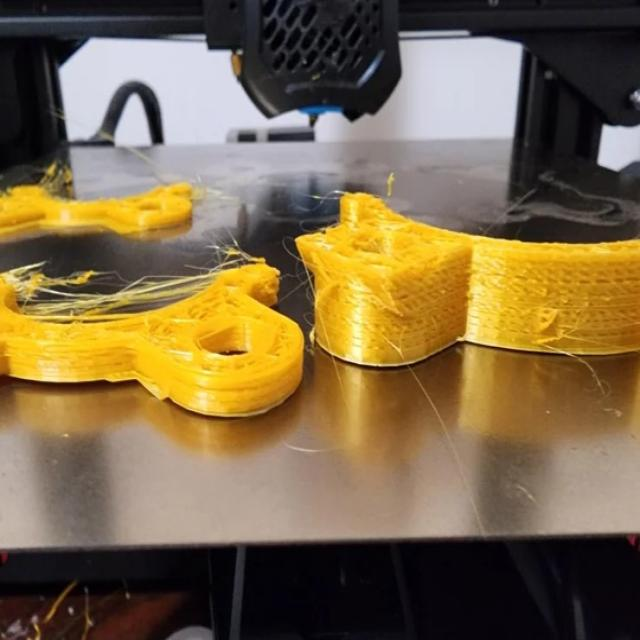Stringing: (21, 255, 220, 338)
